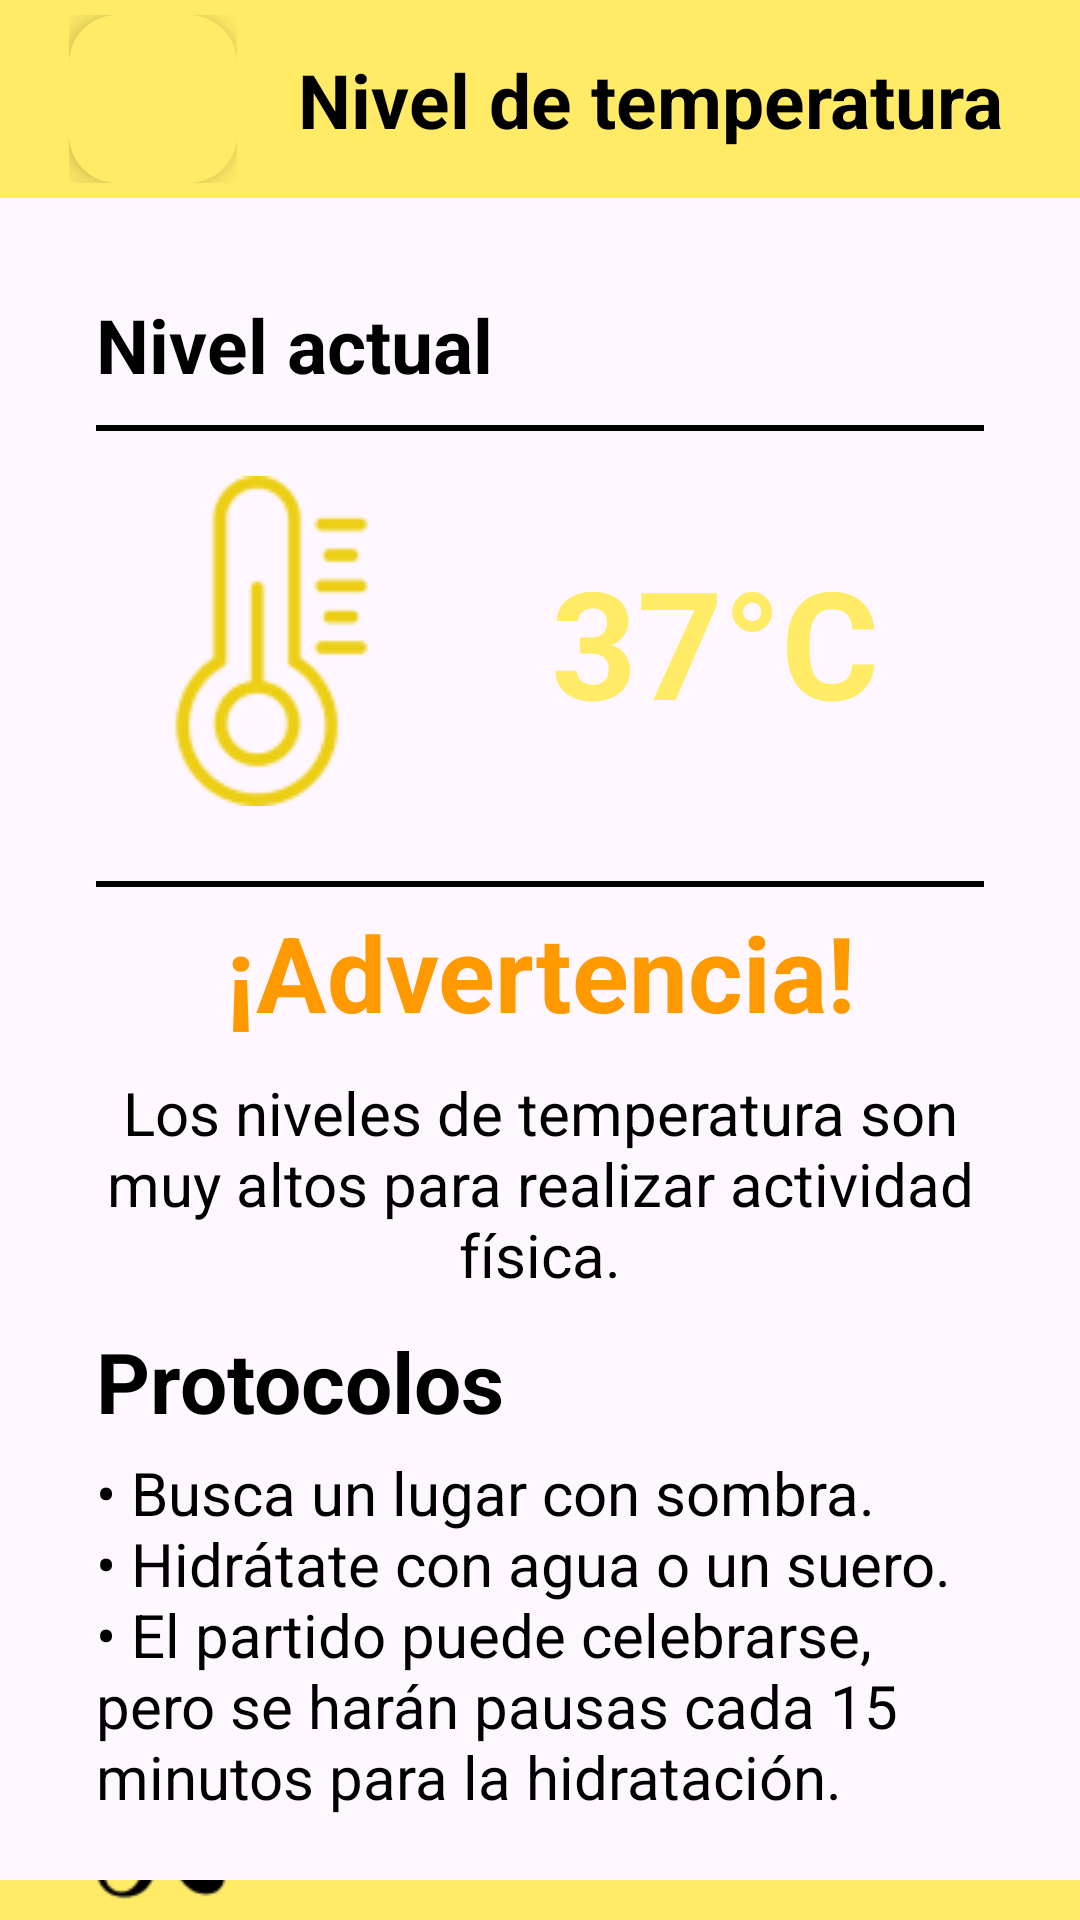

Icons on this 1080px×1920px Android screen, each with its box as [left=x1, top=y1, right=x2, bottom=y2]:
termometroamarillo: [left=175, top=476, right=368, bottom=806]
